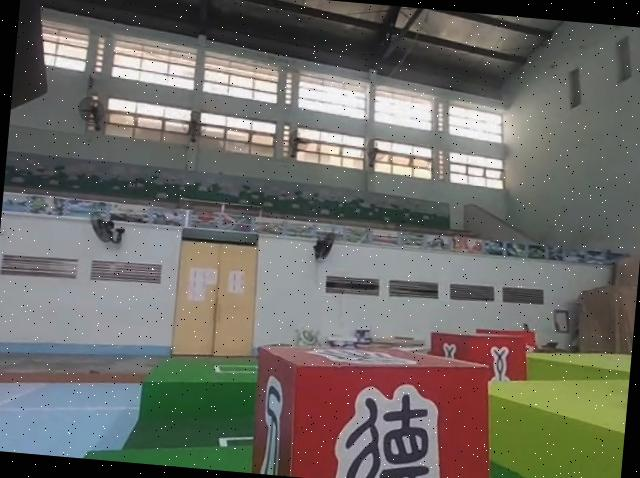R2 Fake: (238, 329, 497, 478)
